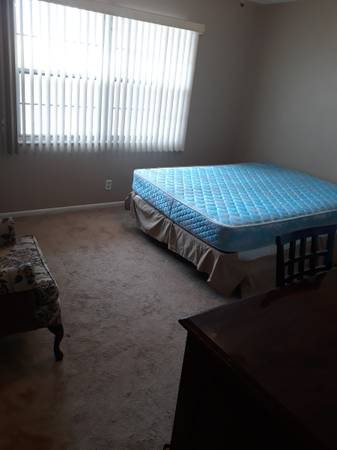bed: (130, 163, 336, 293)
